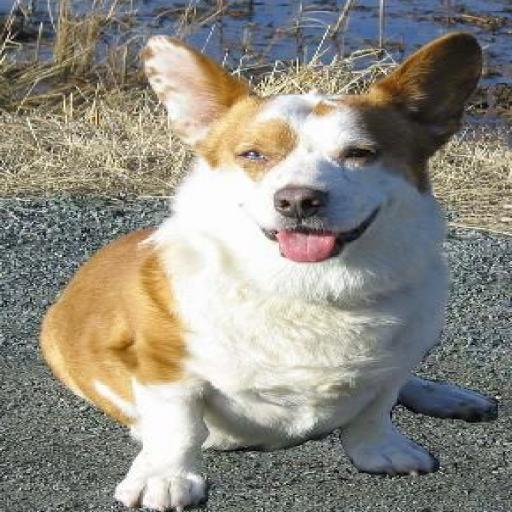dog_face: (139, 26, 488, 258)
